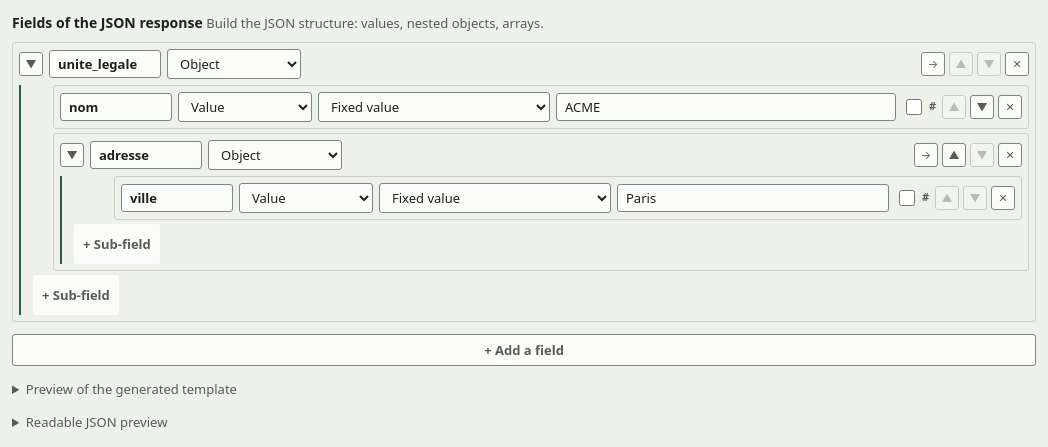
Test case: JsonResponseBuilder — breadcrumb de navigation › navigue dans un objet imbrique via le bouton "Naviguer"
Click the button named "Go into unite_legale": (933, 64) x1=921 y1=52 x2=945 y2=76
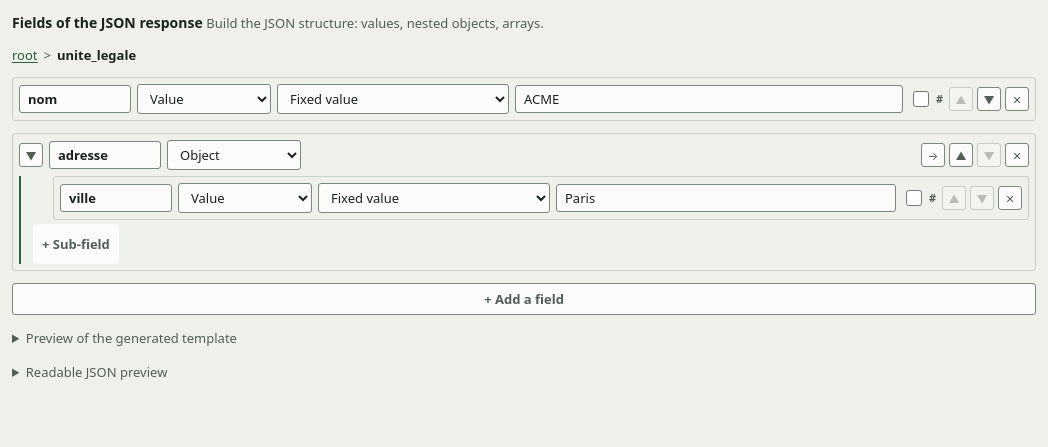
Now the navigation bar named "Data path" is shown, box x1=12 y1=46 x2=136 y2=65
Now the navigation bar named "Data path" shows "root", box x1=12 y1=46 x2=38 y2=65
Now the navigation bar named "Data path" shows "unite_legale", box x1=57 y1=46 x2=136 y2=64
